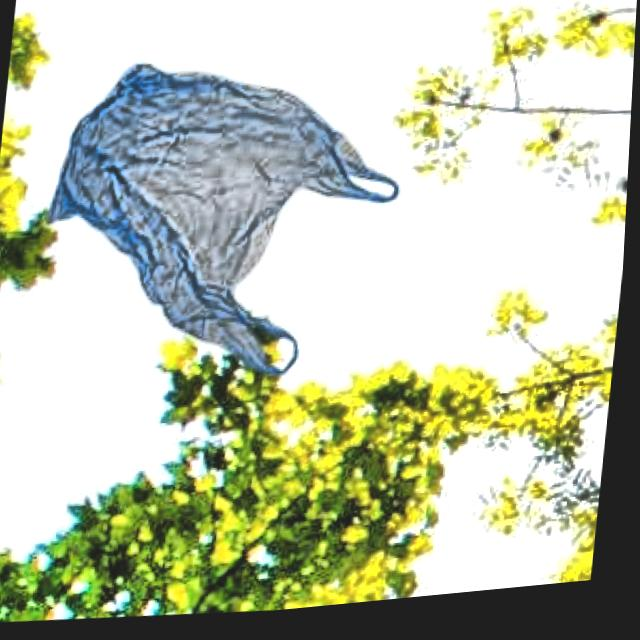Plastic: (23, 27, 422, 418)
